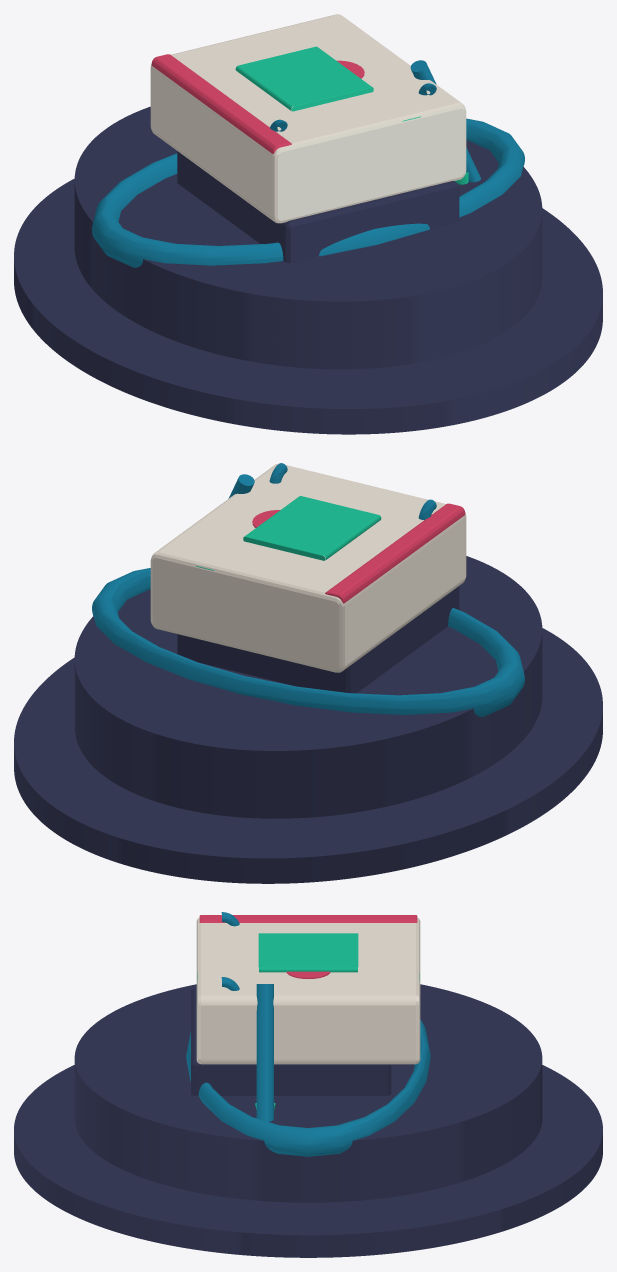
The model's file is 1360_城市运转图鉴_带索书号的书.glb.
The picture shows the model from 3 angles, top to bottom: view 1: azimuth 30°, elevation 25°; view 2: azimuth 150°, elevation 25°; view 3: azimuth 270°, elevation 25°; orthographic projection. The views are drawn at different scales.
Parts seen in each view (by area): view 1: card_1360; view 2: card_1360; view 3: card_1360.
Boxes of the visible parts, x1,y1,x2,y2 form: card_1360: (14, 14, 602, 434); card_1360: (14, 463, 602, 883); card_1360: (14, 912, 602, 1257).
Size of the model in its own units: 2.19 by 1 by 2.57.
